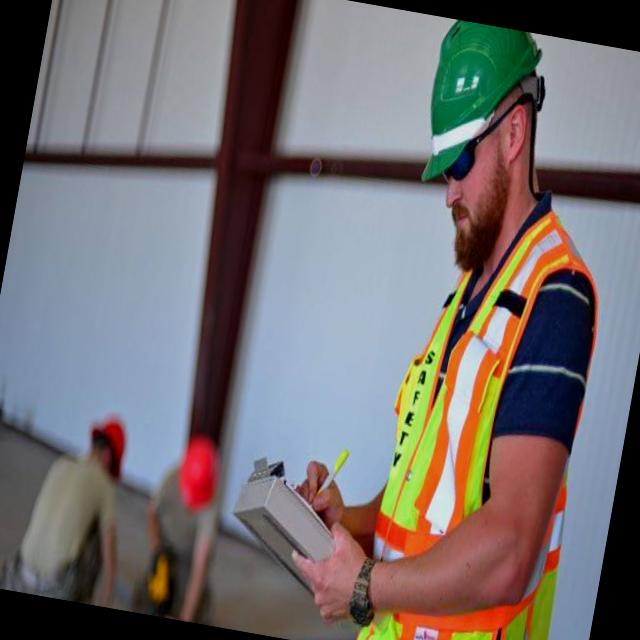goggles: (425, 78, 539, 204)
helmet: (410, 17, 553, 200)
vest: (348, 193, 622, 640)
